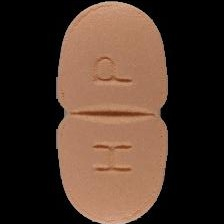33261-679: (0, 0, 224, 224)
